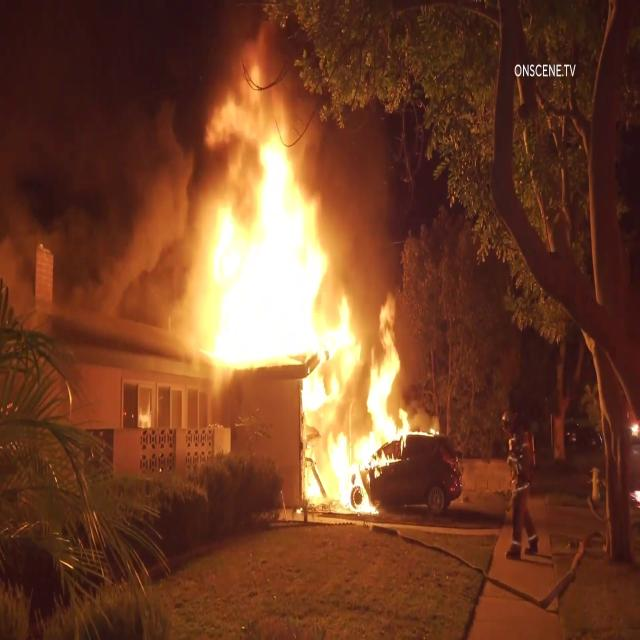fire: (193, 21, 325, 360), (322, 316, 412, 538)
smoke: (2, 2, 190, 339), (335, 76, 405, 307), (0, 0, 150, 64)
